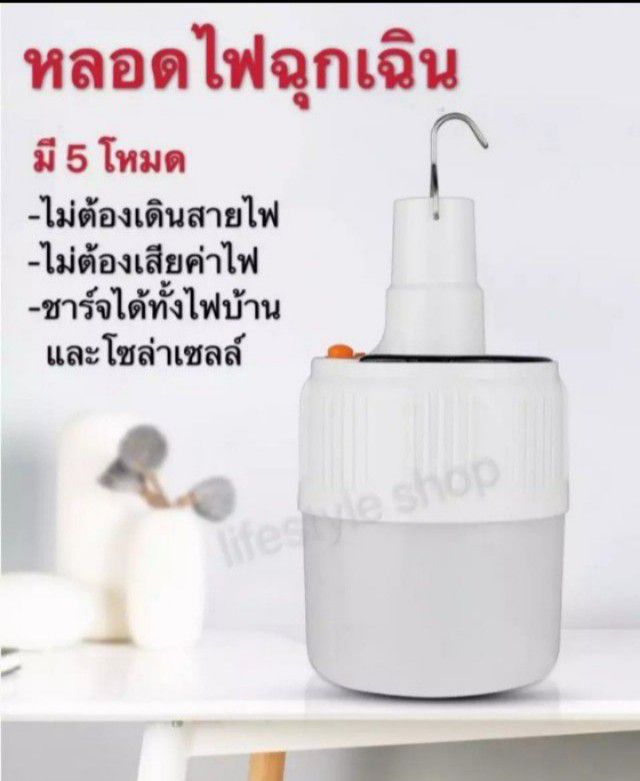Light_bulb: (285, 340, 577, 715)
